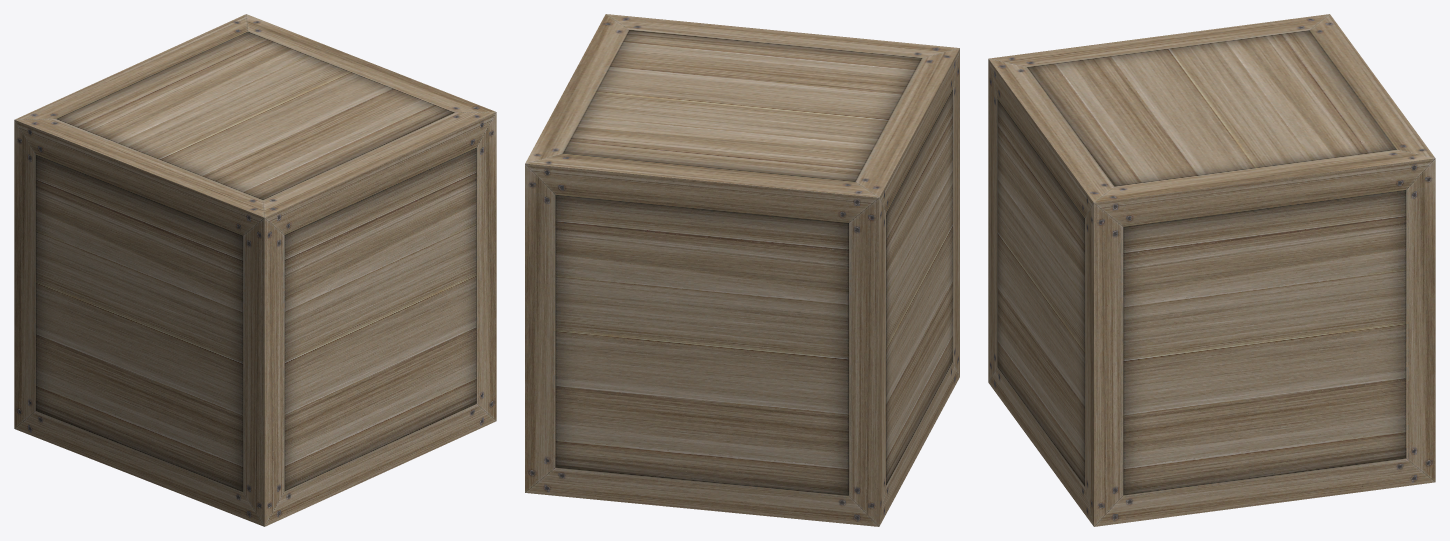
File: crate.glb
3 views of the same model, side by side, from view 1: azimuth 30°, elevation 25°; view 2: azimuth 150°, elevation 25°; view 3: azimuth 270°, elevation 25° (orthographic). The views are drawn at different scales.
Parts seen in each view (by area): view 1: Cube; view 2: Cube; view 3: Cube.
Part boxes in pixels (x1,y1,x2,y2): Cube: (14,14,496,526); Cube: (525,14,959,526); Cube: (988,14,1435,526).
Size of the model in its own units: 2.5 by 2 by 2.5.
1 material, 1 textured.
